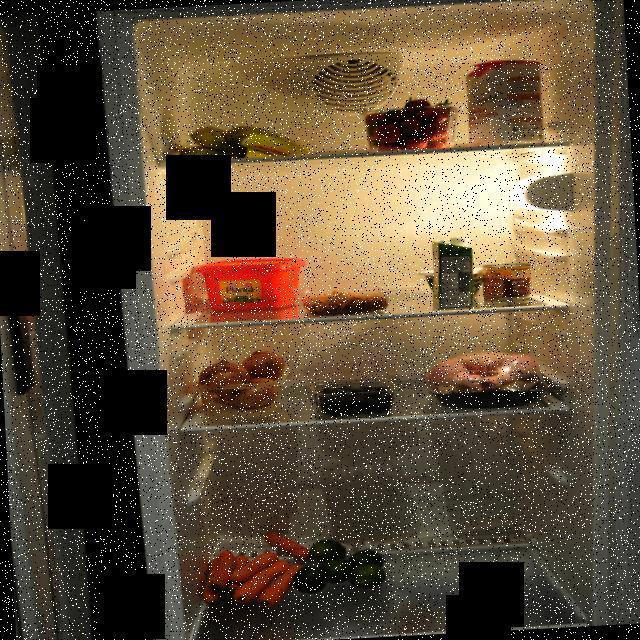banana: (172, 120, 314, 167)
blueberries: (316, 379, 394, 417)
butter: (194, 253, 310, 316)
carrot: (198, 527, 314, 610)
chicken: (423, 347, 552, 412)
corn: (478, 261, 534, 308)
goat_cheese: (420, 266, 484, 301)
heavy_cream: (431, 236, 476, 310)
lime: (293, 536, 397, 594)
onion: (198, 348, 288, 414)
shrimp: (297, 287, 395, 314)
strawberries: (356, 96, 454, 154)
sugar: (464, 55, 546, 149)
